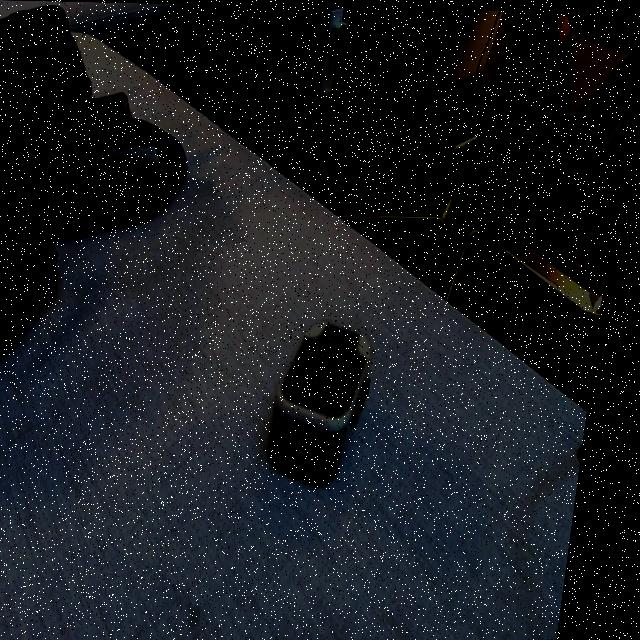adapter: (276, 317, 387, 484)
